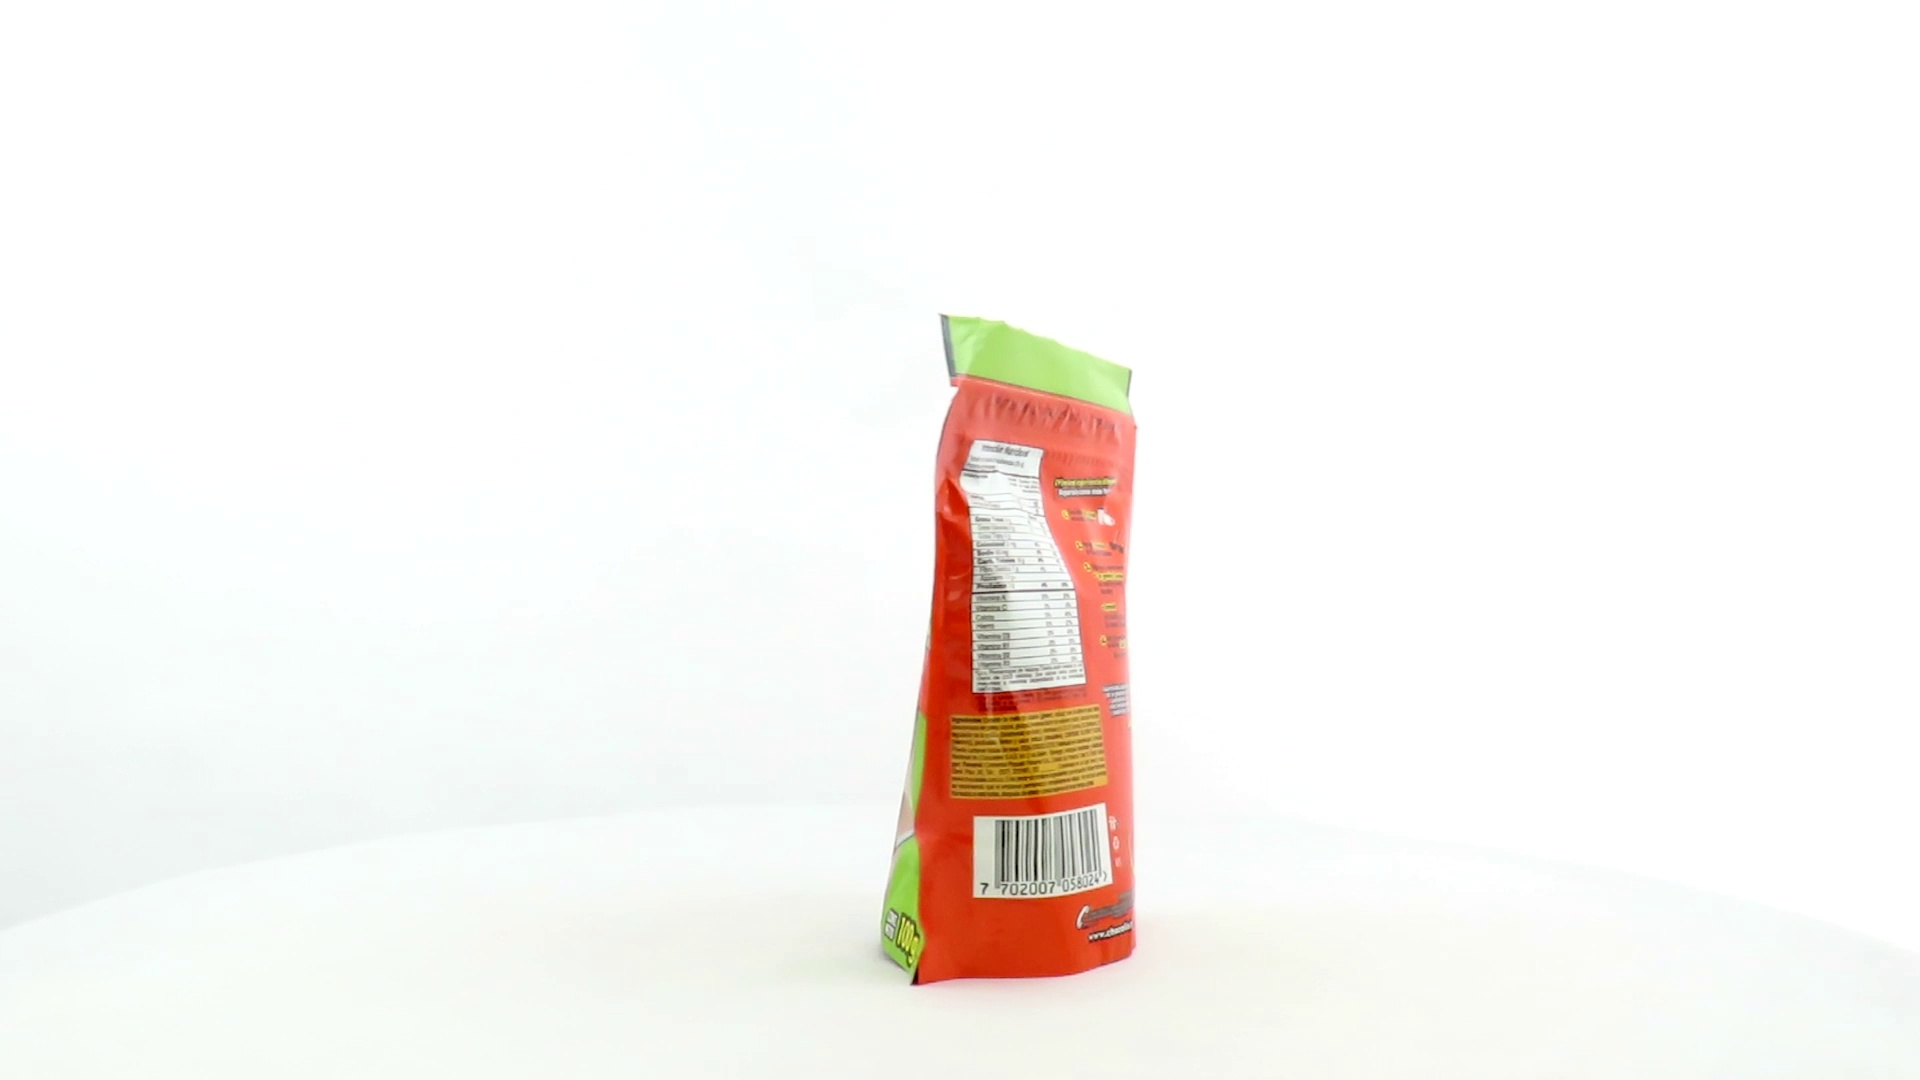COL0170102DYP10000: (870, 309, 1143, 992)
